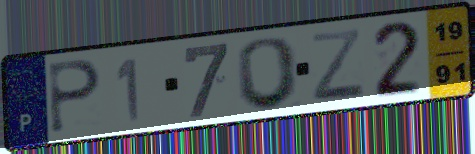1: (114, 55, 141, 123)
2: (371, 18, 424, 100)
7: (182, 40, 232, 120)
O: (235, 34, 302, 112)
P: (46, 58, 104, 136)
Z: (308, 26, 368, 104)
